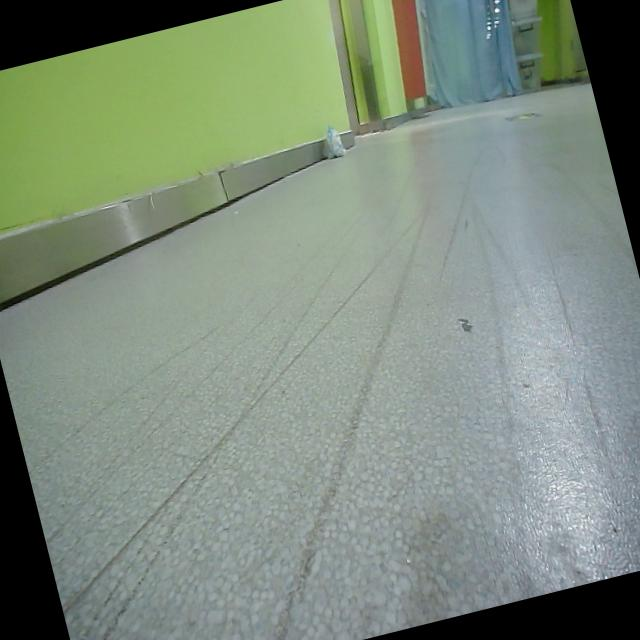xiaoba: (320, 118, 350, 165)
